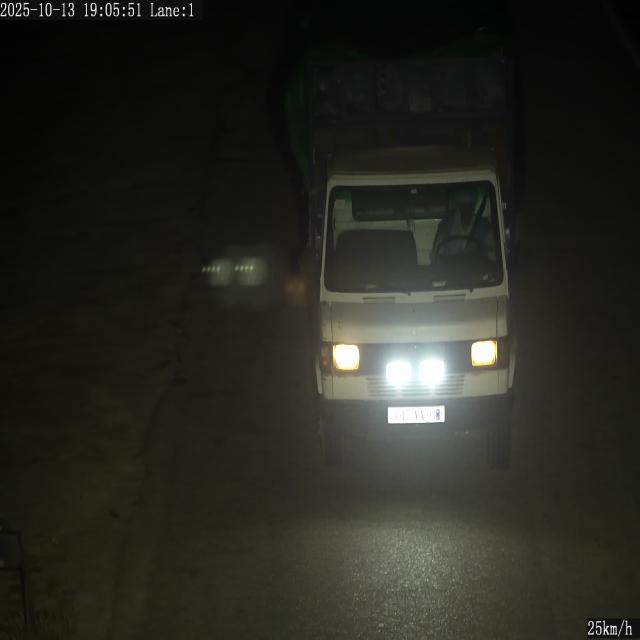BUS: (388, 406, 444, 424)
